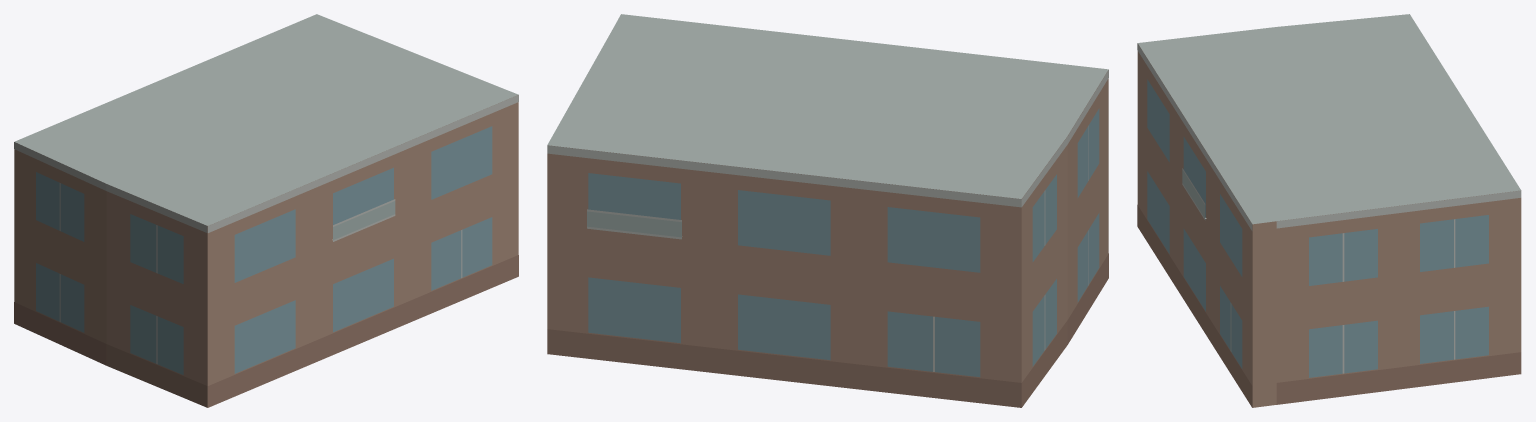
The model's file is survey-upis-33011298.glb.
The picture shows the model from 3 angles, left to right: view 1: azimuth 30°, elevation 25°; view 2: azimuth 150°, elevation 25°; view 3: azimuth 270°, elevation 25°; orthographic projection. The views are drawn at different scales.
Visible parts, largest first — view 1: survey-upis-33011298.tmp; view 2: survey-upis-33011298.tmp; view 3: survey-upis-33011298.tmp.
Boxes of the visible parts, x1,y1,x2,y2 form: survey-upis-33011298.tmp: [14, 14, 518, 407]; survey-upis-33011298.tmp: [547, 14, 1108, 407]; survey-upis-33011298.tmp: [1137, 14, 1521, 407].
Size of the model in its own units: 14.99 by 6.1 by 11.56.
